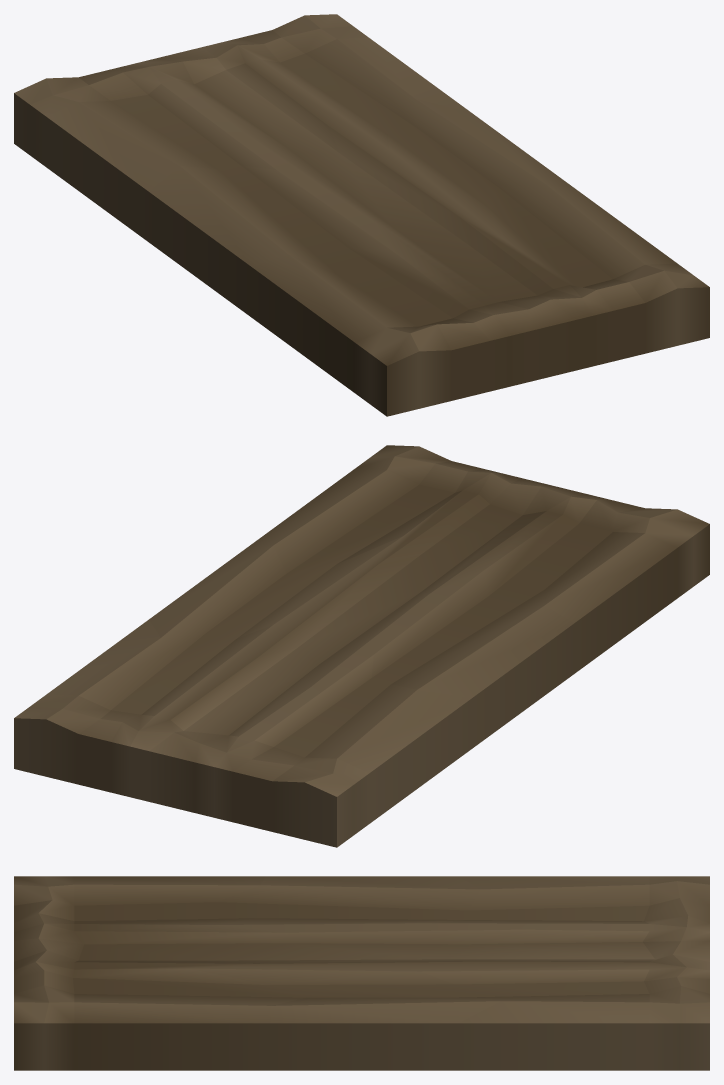
Rendered from Farmland_Soil_2X4.fbx.
3 views of the same model, one above another, from view 1: azimuth 30°, elevation 25°; view 2: azimuth 150°, elevation 25°; view 3: azimuth 270°, elevation 25° (orthographic). The views are drawn at different scales.
Visible parts, largest first — view 1: Farmland_Soil_2X4.002; view 2: Farmland_Soil_2X4.002; view 3: Farmland_Soil_2X4.002.
Boxes of the visible parts, bbox=[...] form: Farmland_Soil_2X4.002: bbox=[14, 14, 709, 416]; Farmland_Soil_2X4.002: bbox=[14, 445, 709, 847]; Farmland_Soil_2X4.002: bbox=[14, 876, 709, 1070].
Bounding box in the file's own units: 2 × 0.3546 × 4.
1 material, 1 textured.
